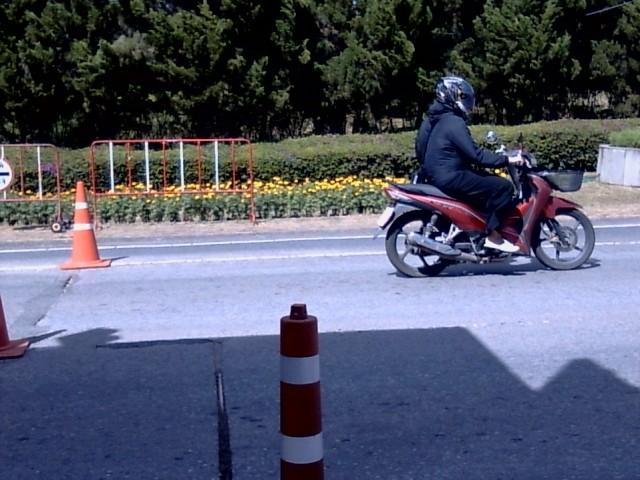helmet: (437, 76, 475, 115)
motor: (373, 180, 509, 277), (498, 164, 594, 269)
person: (416, 76, 524, 251)
